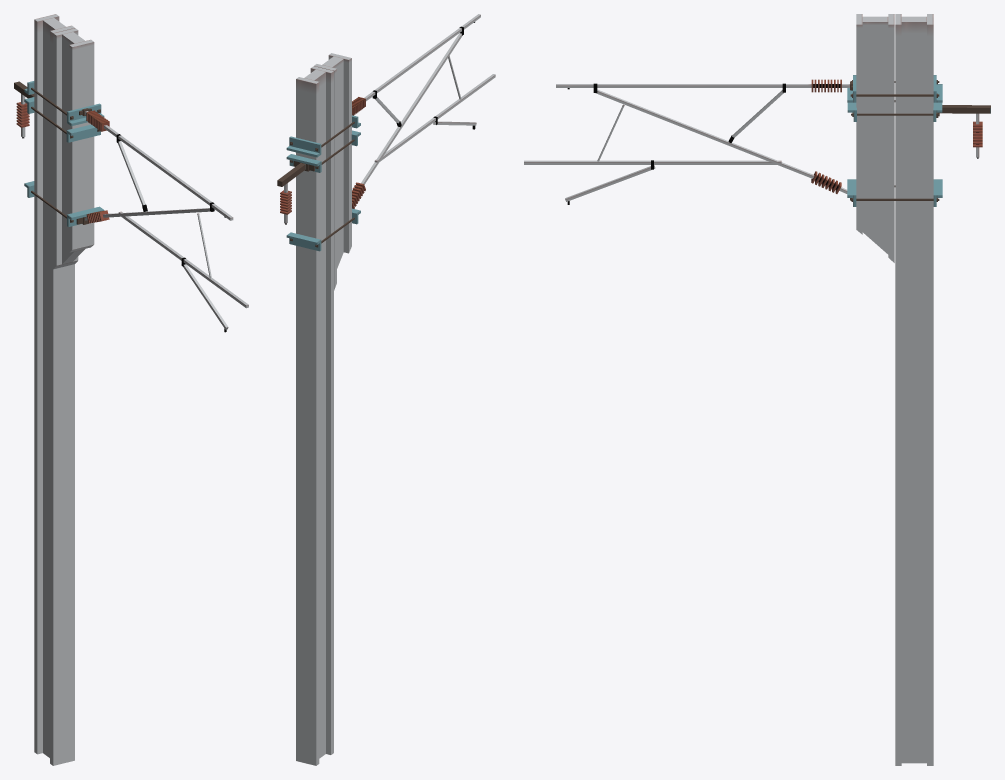
Rendered from double_column_wire_node.obj.
3 renders of one model, left to right at view 1: azimuth 30°, elevation 25°; view 2: azimuth 150°, elevation 25°; view 3: azimuth 270°, elevation 25°, orthographic. The views are drawn at different scales.
Parts seen in each view (by area): view 1: catenary.001, catenary, catenary_anti.001; view 2: catenary.001, catenary, catenary_anti.001; view 3: catenary.001, catenary, catenary_anti.001.
Boxes of the visible parts, left/top/right/bottom form: catenary.001: left=24, top=14, right=74, bottom=765; catenary: left=31, top=28, right=248, bottom=332; catenary_anti.001: left=14, top=81, right=100, bottom=142; catenary.001: left=286, top=66, right=333, bottom=765; catenary: left=290, top=14, right=495, bottom=290; catenary_anti.001: left=277, top=130, right=360, bottom=224; catenary.001: left=895, top=14, right=942, bottom=765; catenary: left=524, top=14, right=939, bottom=262; catenary_anti.001: left=847, top=100, right=990, bottom=158.
Size of the model in its own units: 0.375 by 8 by 4.57.
1 material, 1 textured.
